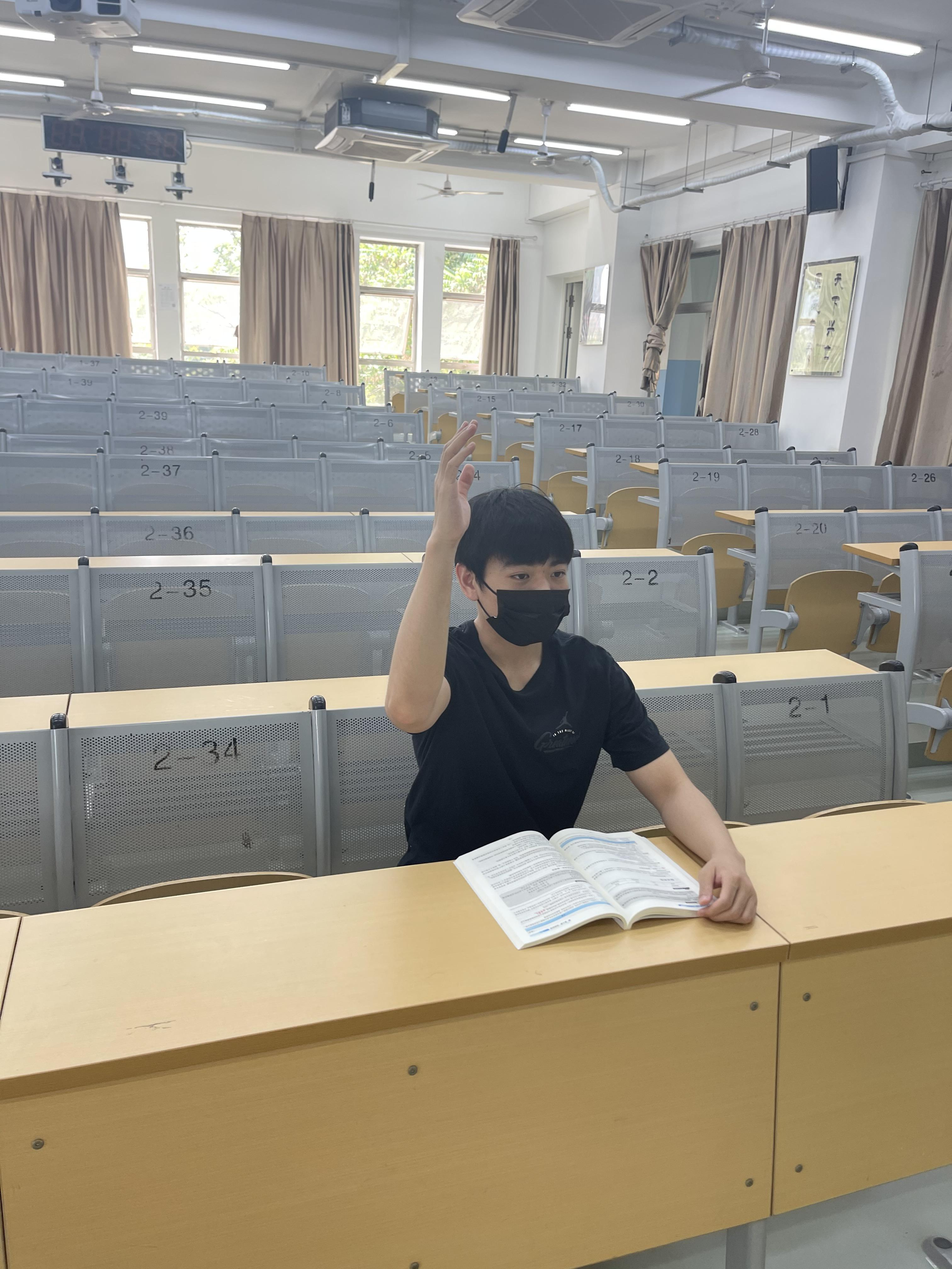study: (386, 417, 755, 929)
